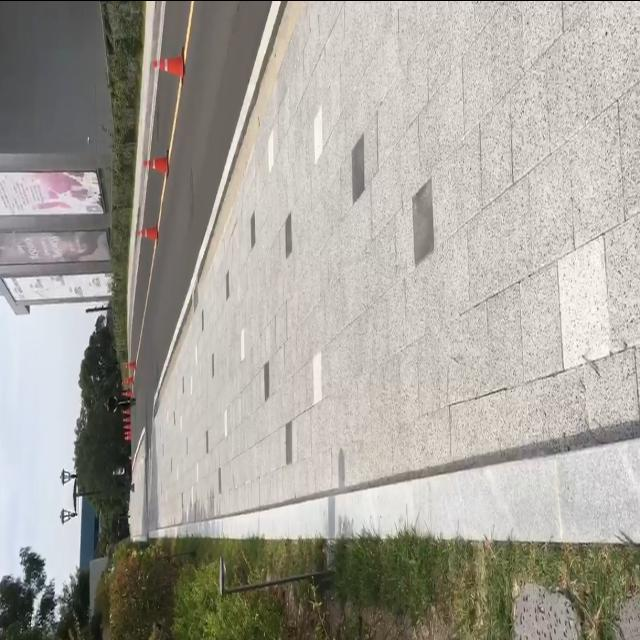obstacle: (146, 35, 184, 89), (137, 139, 171, 190), (129, 215, 157, 256)
road: (129, 0, 304, 464)
sidewalk: (150, 0, 640, 545), (125, 0, 163, 341), (132, 450, 146, 539)
